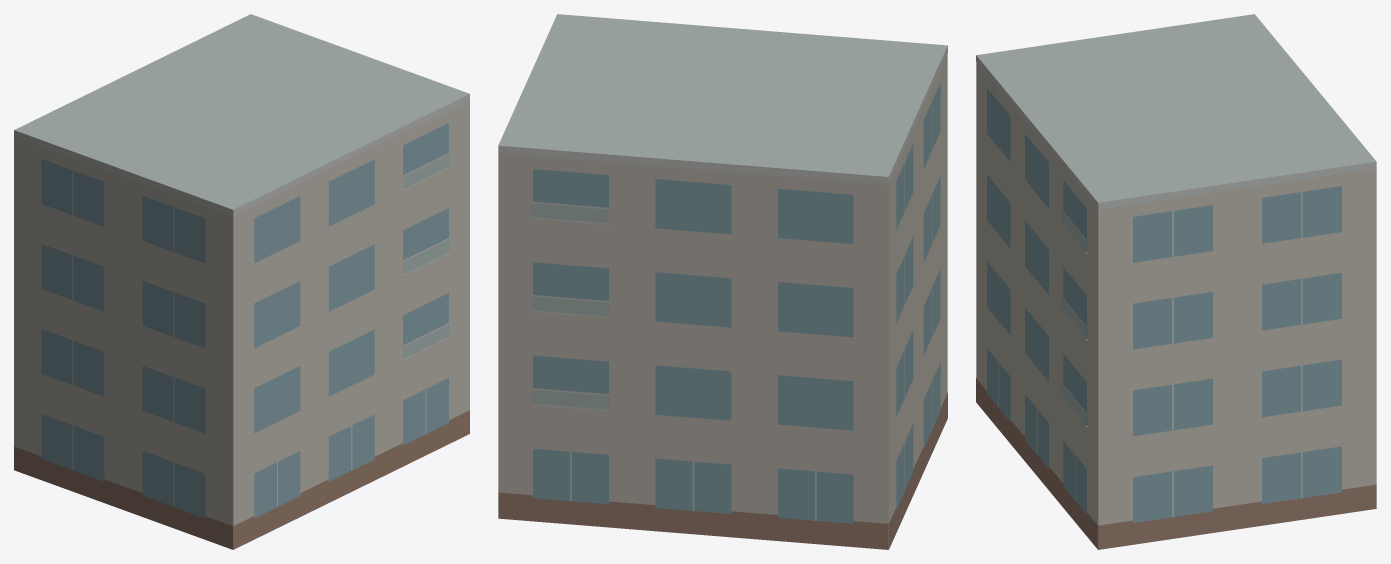
File: residential-99db3a4a-9a62-4632-802e-9067d09f8114.glb
3 renders of one model, left to right at view 1: azimuth 30°, elevation 25°; view 2: azimuth 150°, elevation 25°; view 3: azimuth 270°, elevation 25°, orthographic. The views are drawn at different scales.
Parts seen in each view (by area): view 1: residential-99db3a4a-9a62-4632-802e-9067d09f8114.tmp; view 2: residential-99db3a4a-9a62-4632-802e-9067d09f8114.tmp; view 3: residential-99db3a4a-9a62-4632-802e-9067d09f8114.tmp.
Part boxes in pixels (x1=…): residential-99db3a4a-9a62-4632-802e-9067d09f8114.tmp: x1=14, y1=14, x2=469, y2=549; residential-99db3a4a-9a62-4632-802e-9067d09f8114.tmp: x1=498, y1=14, x2=947, y2=549; residential-99db3a4a-9a62-4632-802e-9067d09f8114.tmp: x1=976, y1=14, x2=1376, y2=549.
Size of the model in its own units: 14.24 by 12.2 by 12.77.
